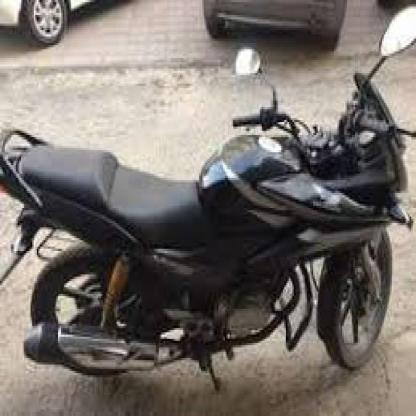bike: (4, 75, 410, 392)
